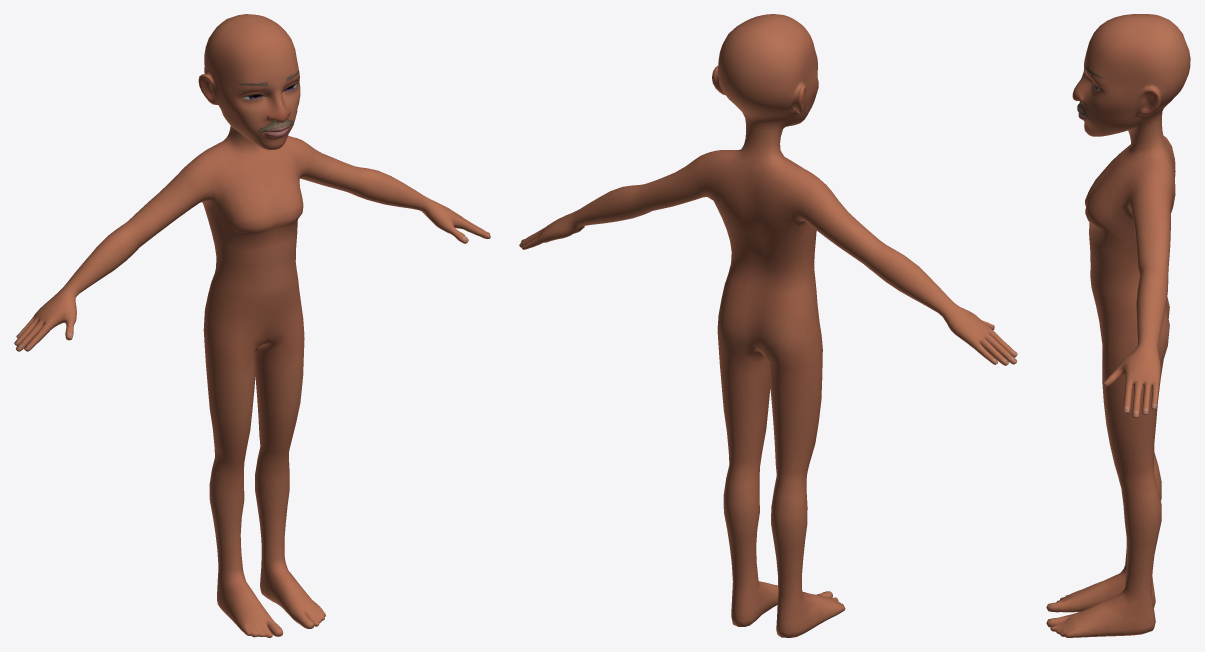
File: frame_0044.glb
The picture shows the model from 3 angles, left to right: view 1: azimuth 30°, elevation 25°; view 2: azimuth 150°, elevation 25°; view 3: azimuth 270°, elevation 25°; orthographic projection. The views are drawn at different scales.
Visible parts, largest first — view 1: frame_0044_head_geo; view 2: frame_0044_head_geo; view 3: frame_0044_head_geo.
Boxes of the visible parts, x1,y1,x2,y2 form: frame_0044_head_geo: (14, 14, 490, 637); frame_0044_head_geo: (519, 14, 1017, 637); frame_0044_head_geo: (1046, 14, 1190, 637).
Bounding box in the file's own units: 1.28 × 1.5 × 0.3253.
Materials: 3 (3 with a texture image).
